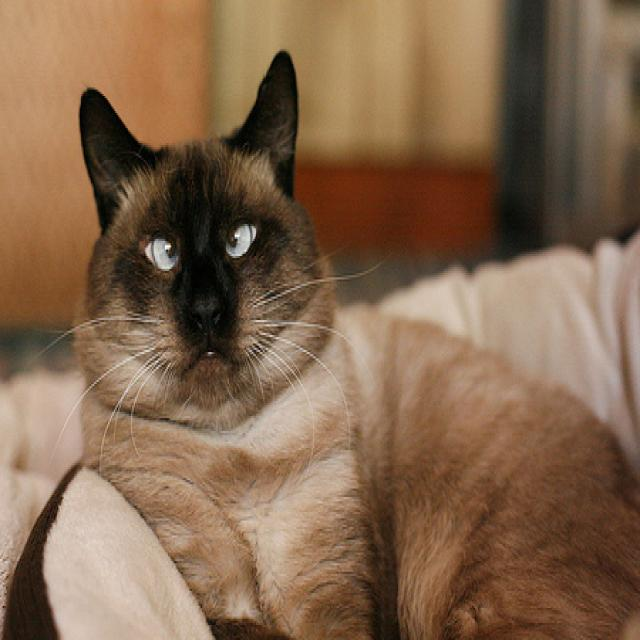Siamese: (71, 45, 640, 640)
